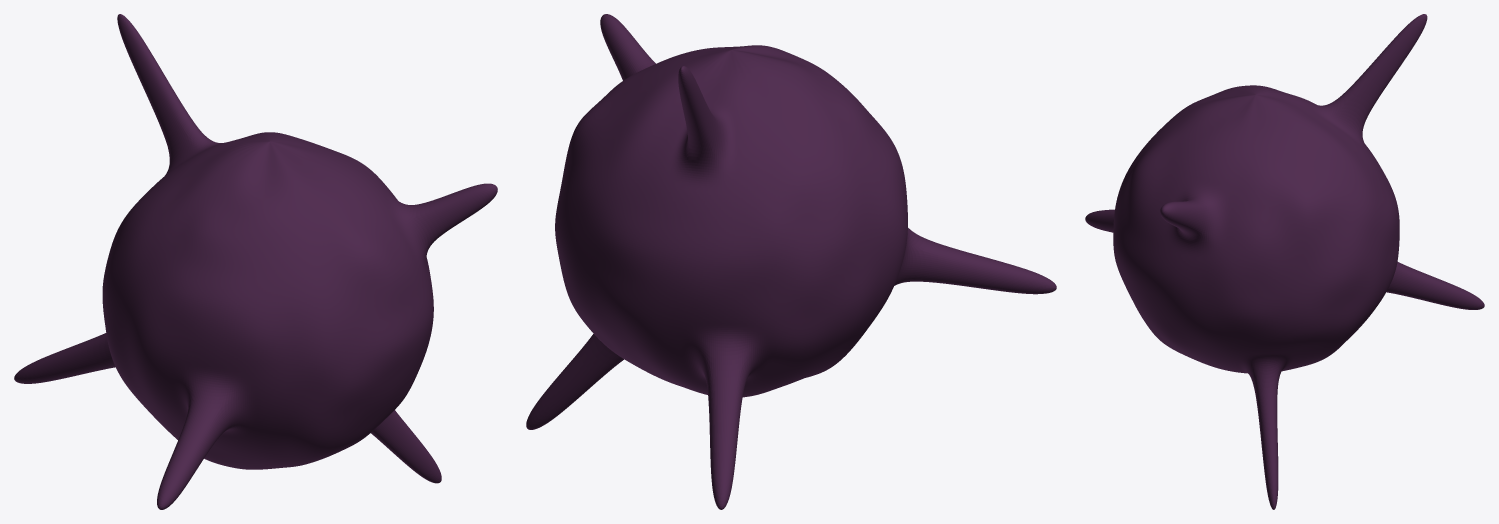
3 views of the same model, side by side, from view 1: azimuth 30°, elevation 25°; view 2: azimuth 150°, elevation 25°; view 3: azimuth 270°, elevation 25° (orthographic). The views are drawn at different scales.
Visible parts, largest first — view 1: Sphere; view 2: Sphere; view 3: Sphere.
Part boxes in pixels (box(x1,y1,x2,y2)): Sphere: box(14, 14, 497, 509); Sphere: box(526, 14, 1056, 509); Sphere: box(1085, 14, 1484, 509).
Bounding box in the file's own units: 2.74 × 3.09 × 2.81.
